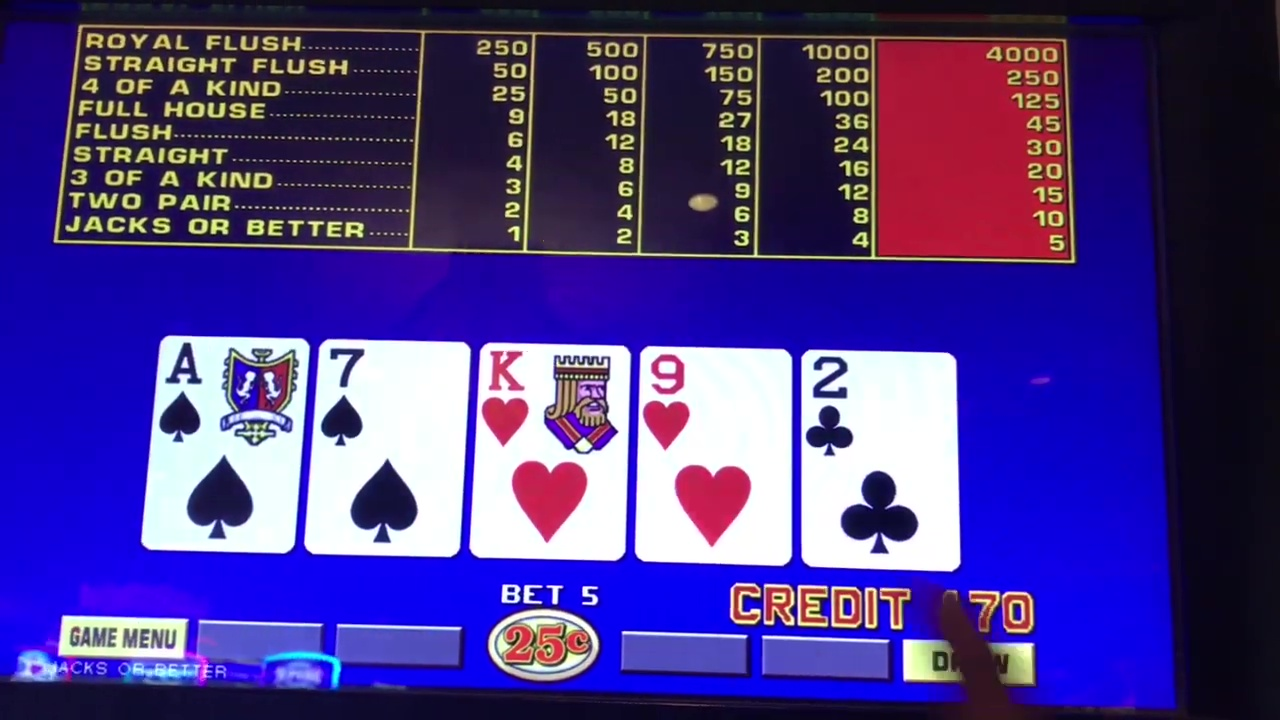C2: (804, 352, 948, 558)
H9: (645, 349, 781, 562)
HK: (483, 346, 620, 558)
S7: (317, 346, 464, 557)
SA: (156, 338, 291, 551)
